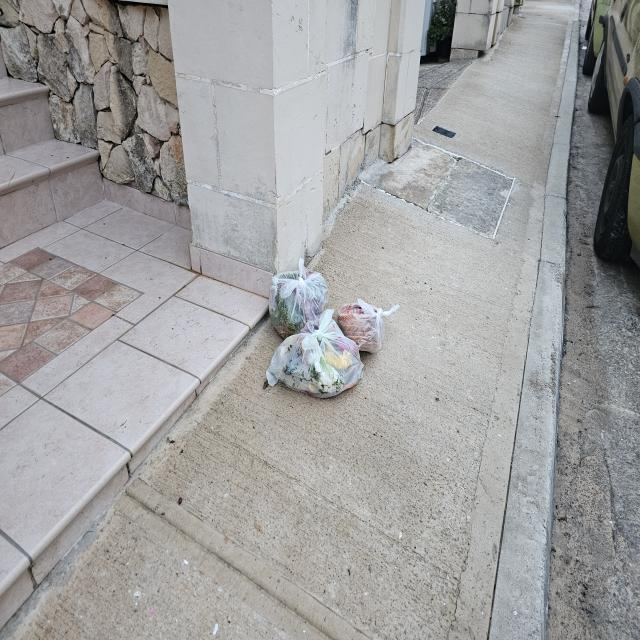white_bag: (264, 308, 366, 402), (268, 255, 331, 343), (335, 296, 402, 355)
